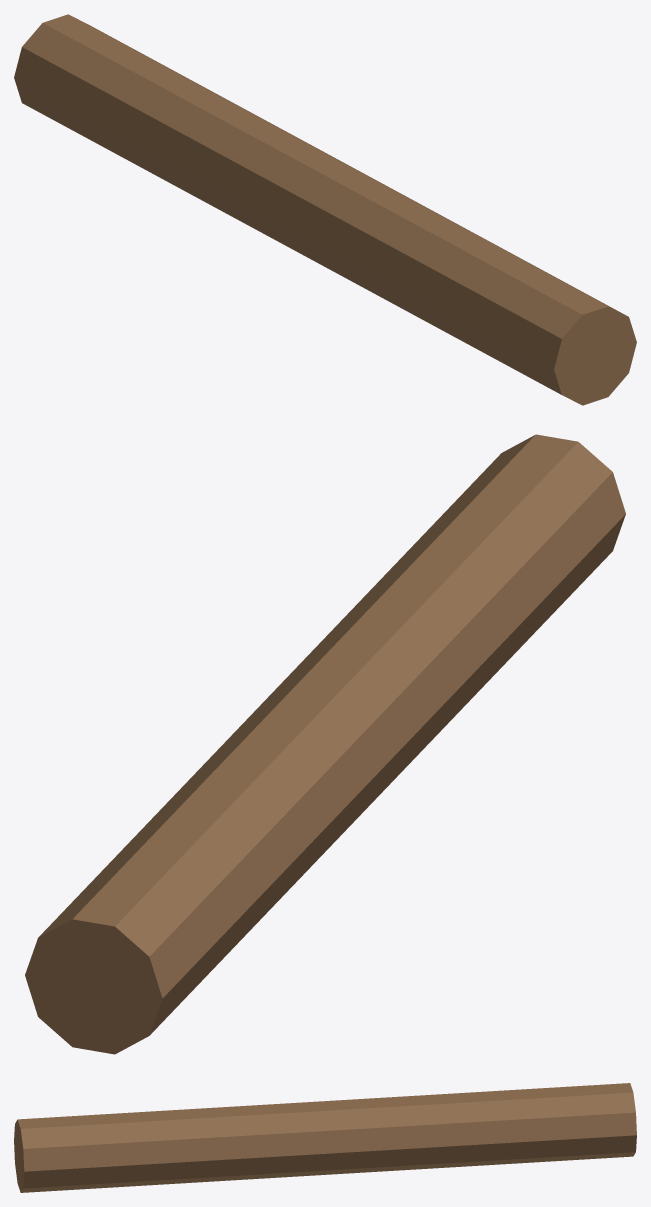
The model's file is z4_tronco_4_lev1.glb.
3 views of the same model, one above another, from view 1: azimuth 30°, elevation 25°; view 2: azimuth 150°, elevation 25°; view 3: azimuth 270°, elevation 25° (orthographic). The views are drawn at different scales.
Parts seen in each view (by area): view 1: z4_tronco_4_lev1; view 2: z4_tronco_4_lev1; view 3: z4_tronco_4_lev1.
Boxes of the visible parts, x1,y1,x2,y2 form: z4_tronco_4_lev1: (14, 14, 636, 405); z4_tronco_4_lev1: (25, 434, 625, 1054); z4_tronco_4_lev1: (14, 1083, 636, 1192).
Bounding box in the file's own units: 1.03 × 0.4565 × 4.03.
